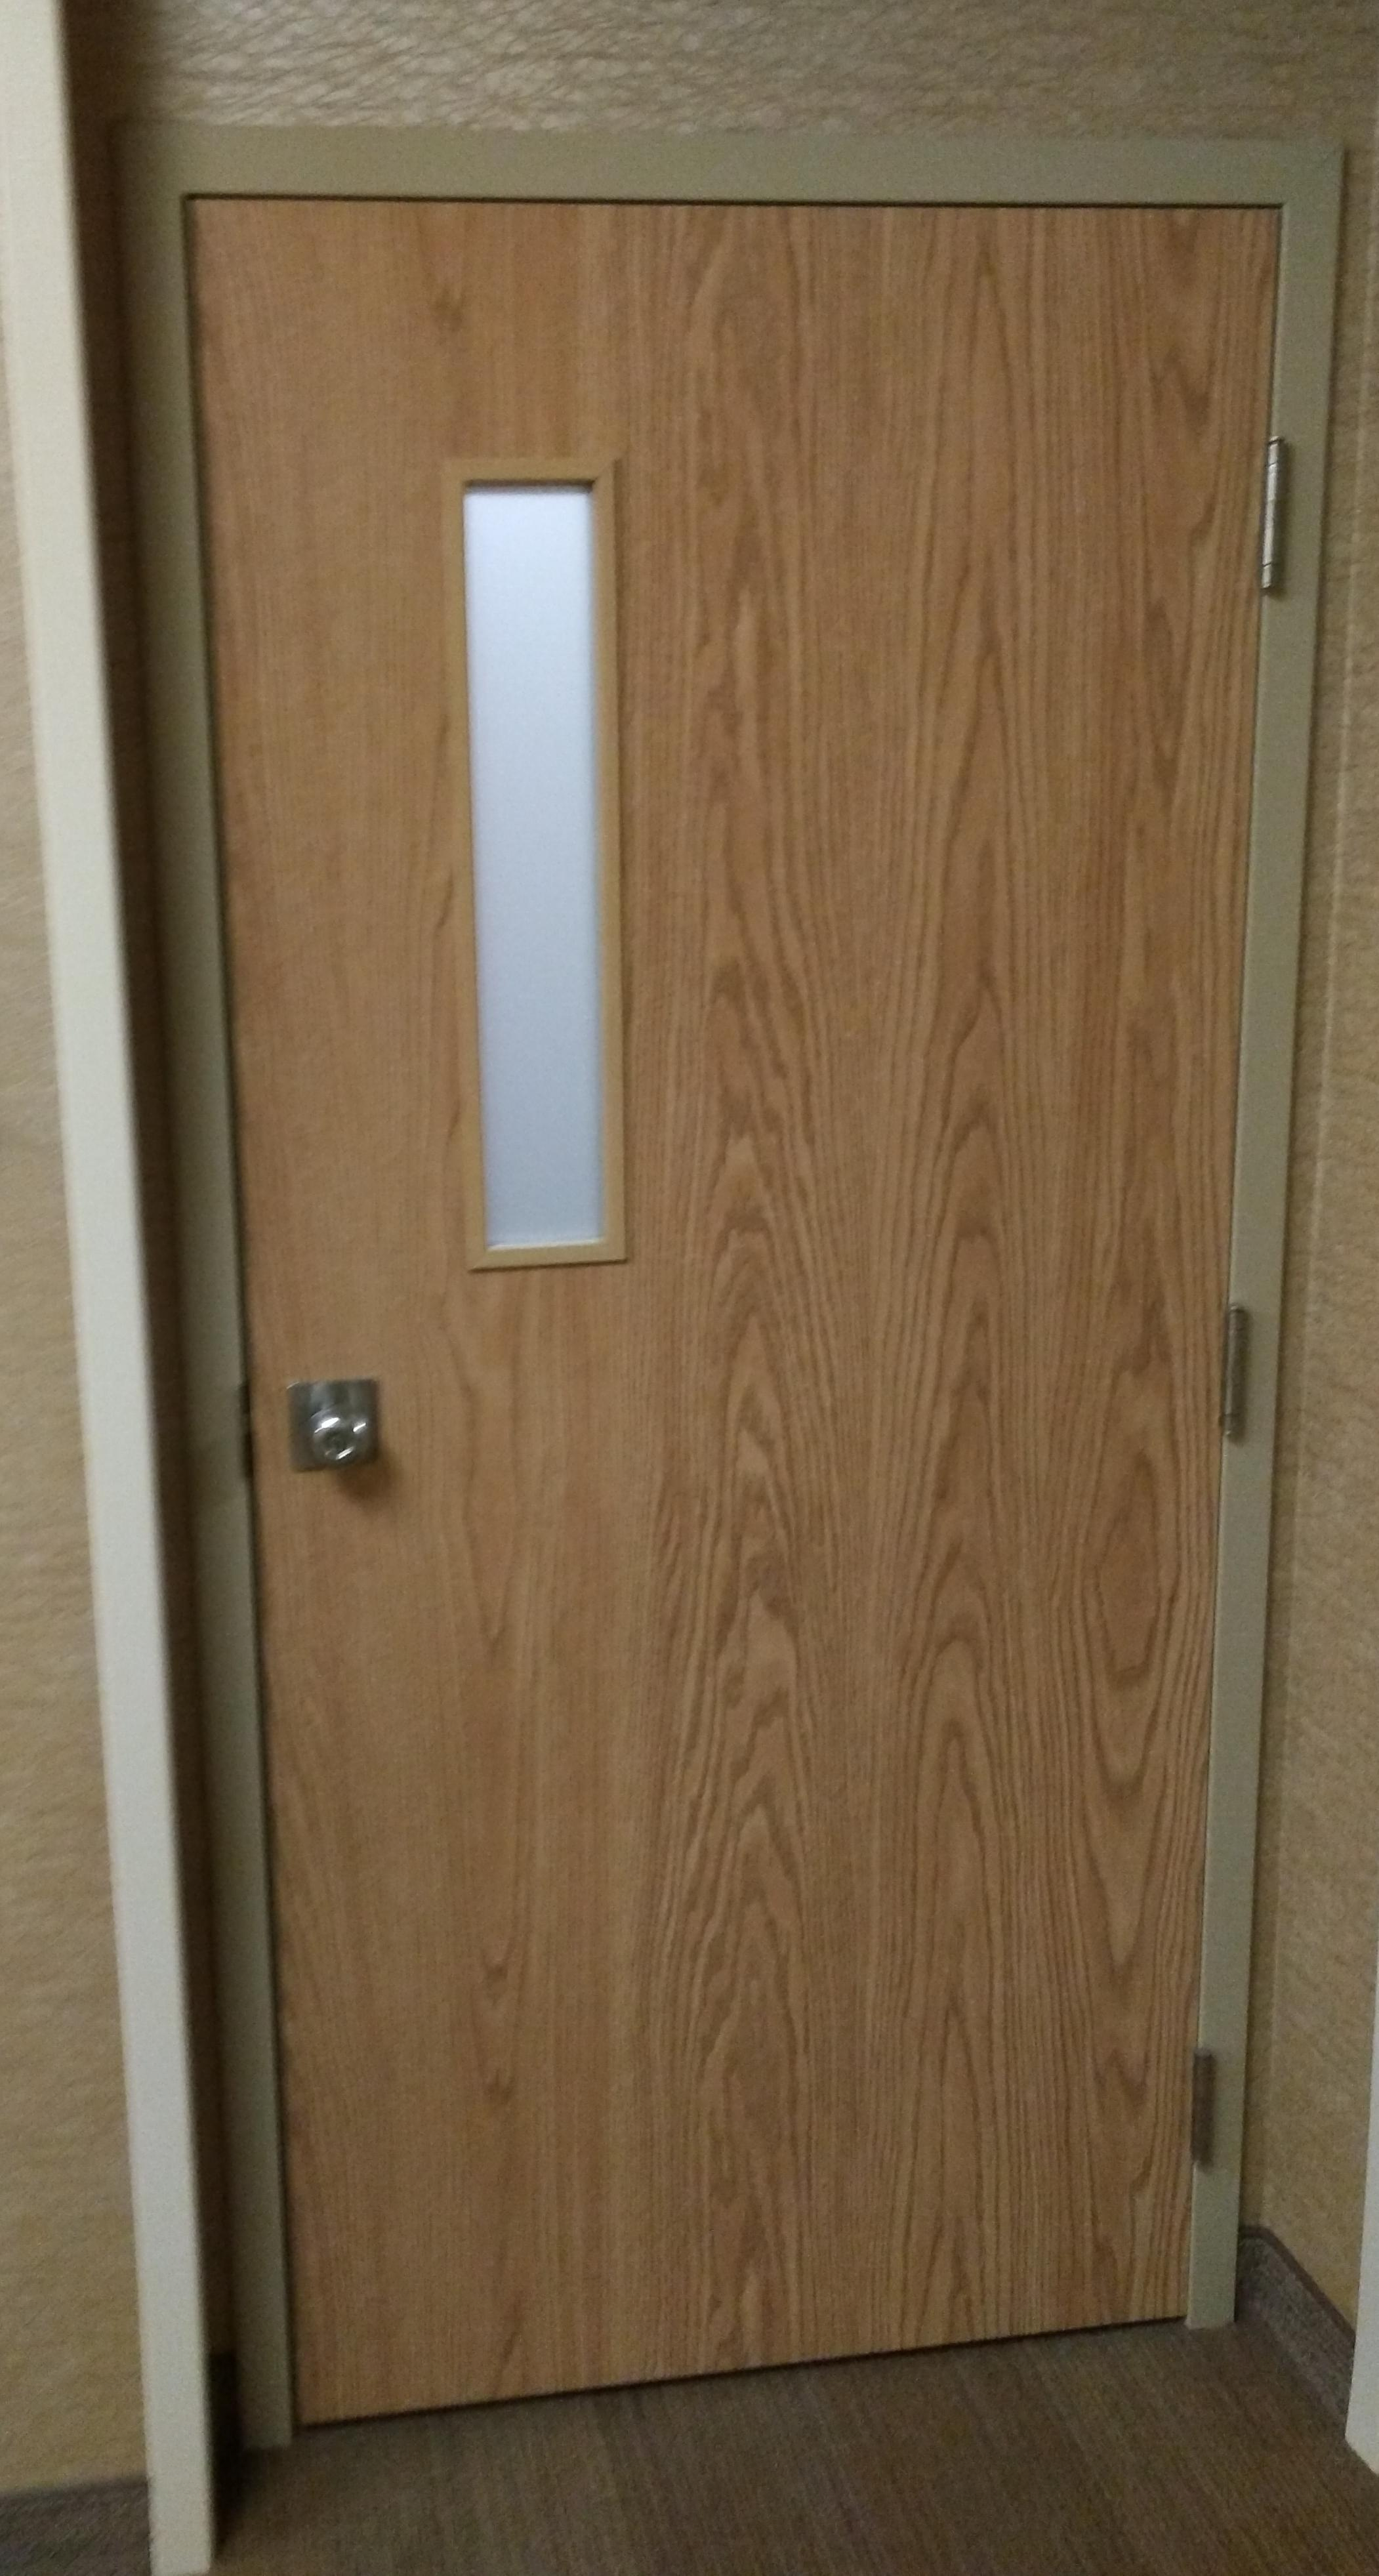handle: (306, 1385, 378, 1506)
